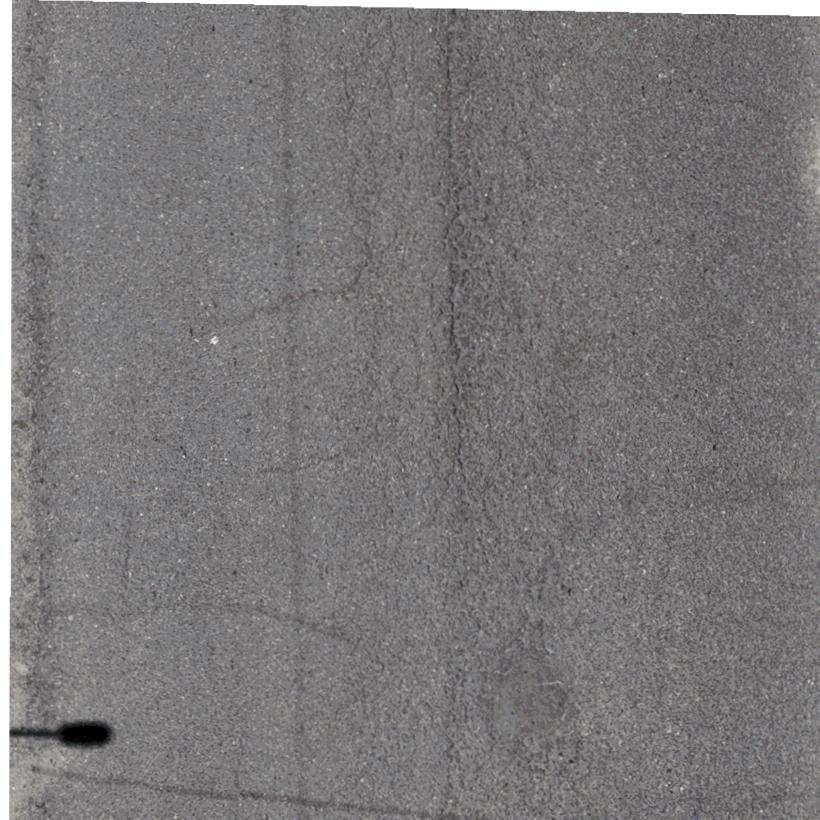PIEL DE COCODRILO: (11, 253, 448, 819), (322, 11, 551, 553)
